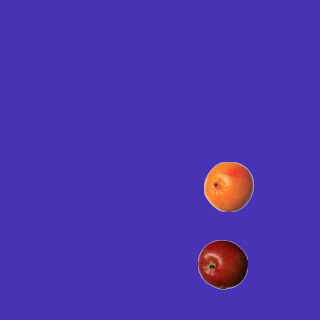Apple Braeburn: (197, 239, 247, 289)
Grapefruit Pink: (203, 161, 253, 211)
